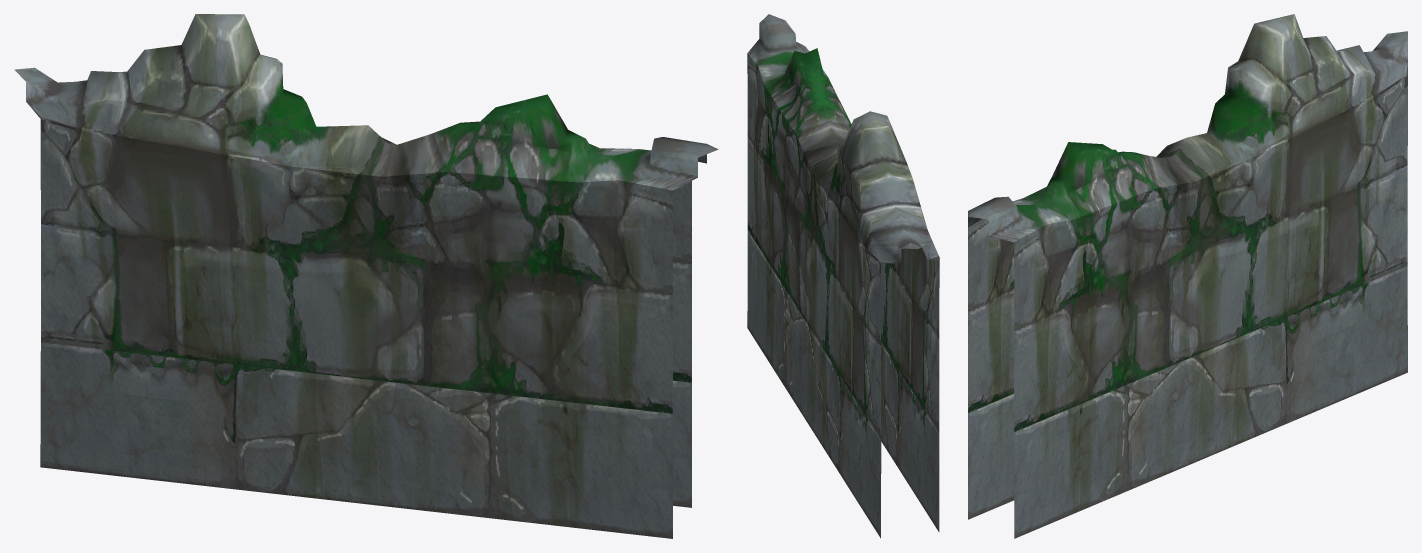
Rendered from stemple_half_diagonal_03.fbx.
3 renders of one model, left to right at view 1: azimuth 30°, elevation 25°; view 2: azimuth 150°, elevation 25°; view 3: azimuth 270°, elevation 25°, orthographic. The views are drawn at different scales.
Parts seen in each view (by area): view 1: stemple_half_diagonal_03-0; view 2: stemple_half_diagonal_03-0; view 3: stemple_half_diagonal_03-0.
Part boxes in pixels (x1,y1,x2,y2): stemple_half_diagonal_03-0: (14,14,718,538); stemple_half_diagonal_03-0: (747,14,939,538); stemple_half_diagonal_03-0: (968,14,1407,538).
Size of the model in its own units: 4 by 3.91 by 4.
